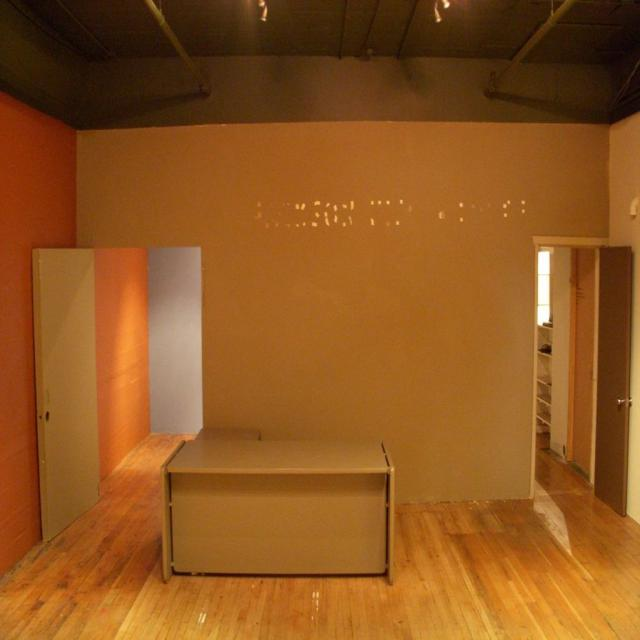desk: (160, 438, 396, 584)
